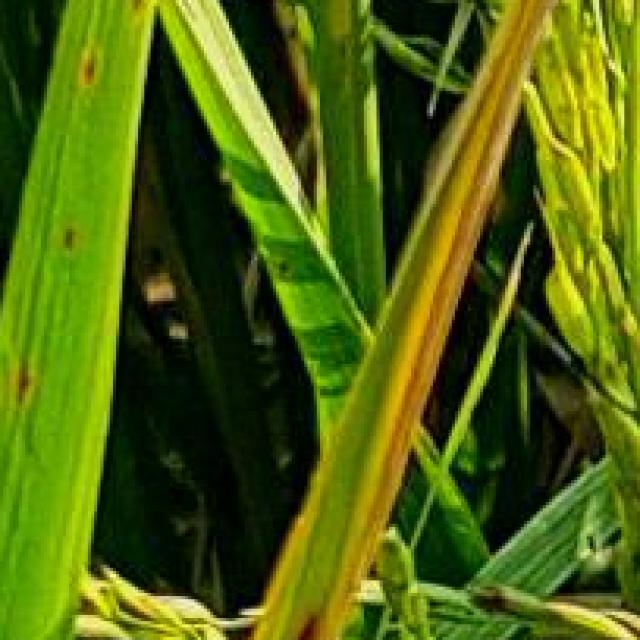Bacterial_Leaf_Blight: (288, 0, 574, 593)
